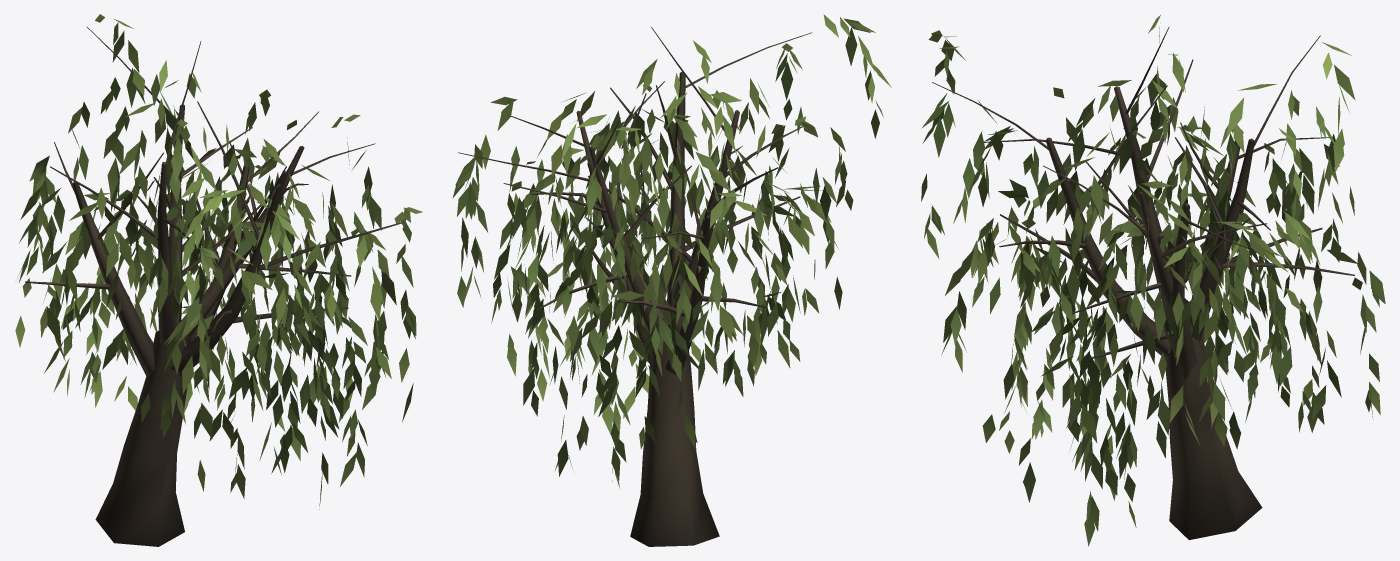
File: willow-b.lod1.glb
3 views of the same model, side by side, from view 1: azimuth 30°, elevation 25°; view 2: azimuth 150°, elevation 25°; view 3: azimuth 270°, elevation 25° (orthographic). The views are drawn at different scales.
Bounding box in the file's own units: 4.73 × 6.42 × 5.23.
